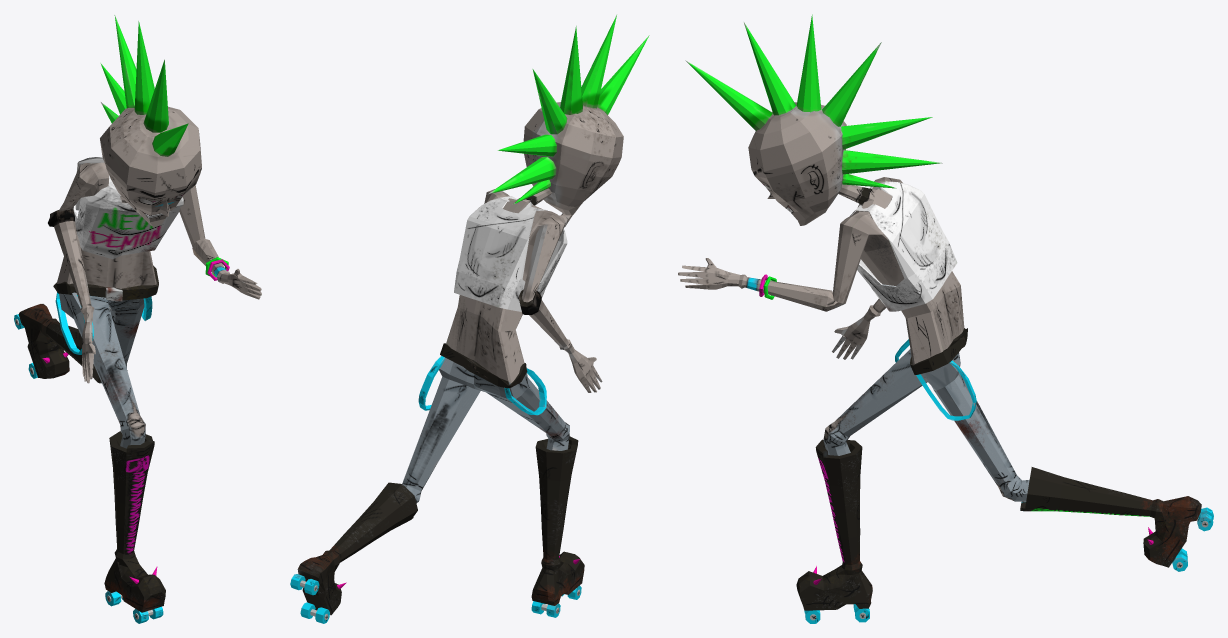
File: punkAnimation_000045.obj
3 renders of one model, left to right at view 1: azimuth 30°, elevation 25°; view 2: azimuth 150°, elevation 25°; view 3: azimuth 270°, elevation 25°, orthographic. The views are drawn at different scales.
Parts seen in each view (by area): view 1: Cube.004_Cube.003; view 2: Cube.004_Cube.003; view 3: Cube.004_Cube.003.
Part boxes in pixels (left/top/right/bottom): Cube.004_Cube.003: left=14, top=15, right=261, bottom=623; Cube.004_Cube.003: left=290, top=15, right=649, bottom=623; Cube.004_Cube.003: left=678, top=14, right=1213, bottom=623.
Bounding box in the file's own units: 1.64 × 6.69 × 5.41.
